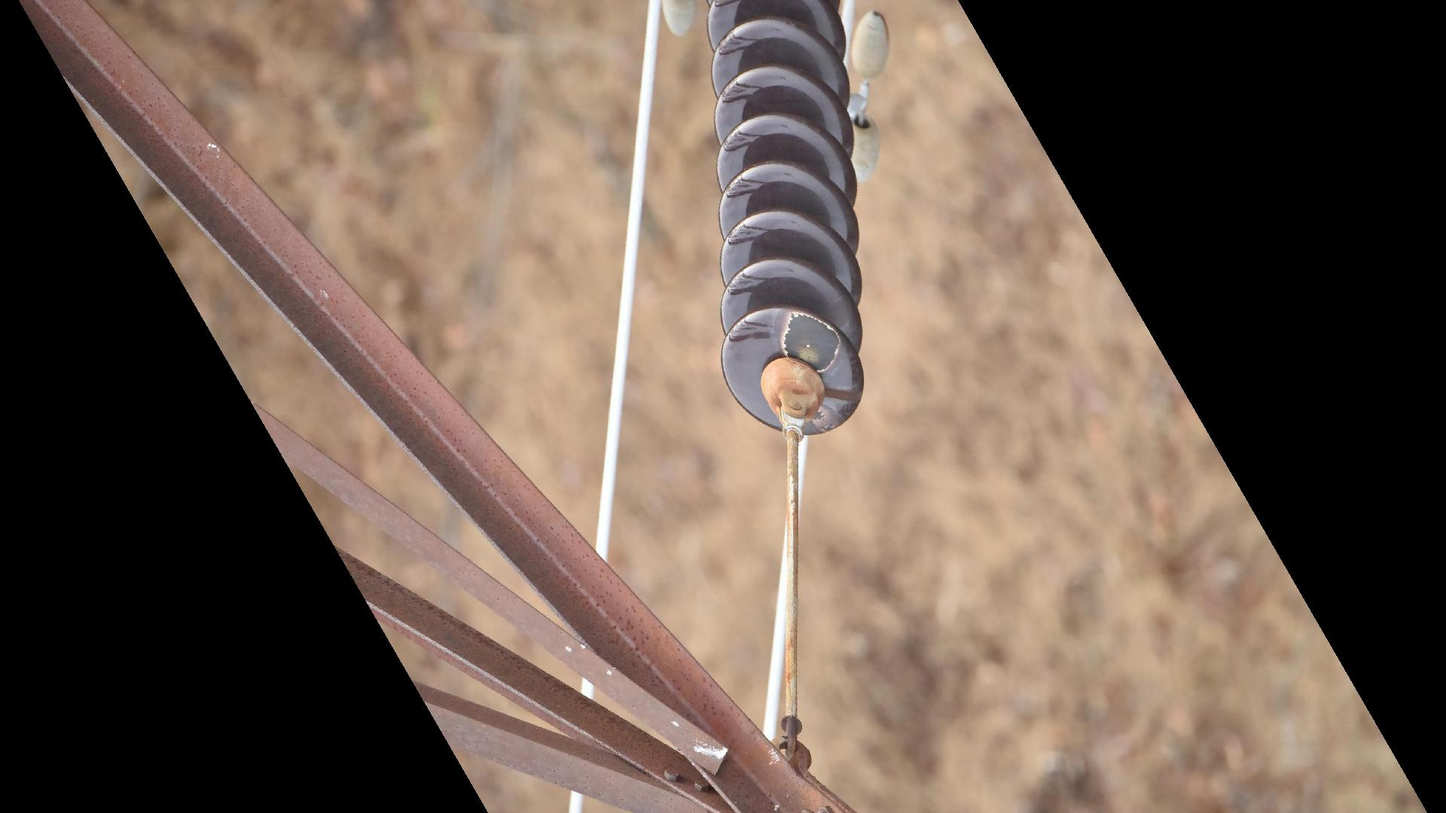insulator: (703, 1, 871, 440)
insulator_flashover: (778, 308, 842, 376)
